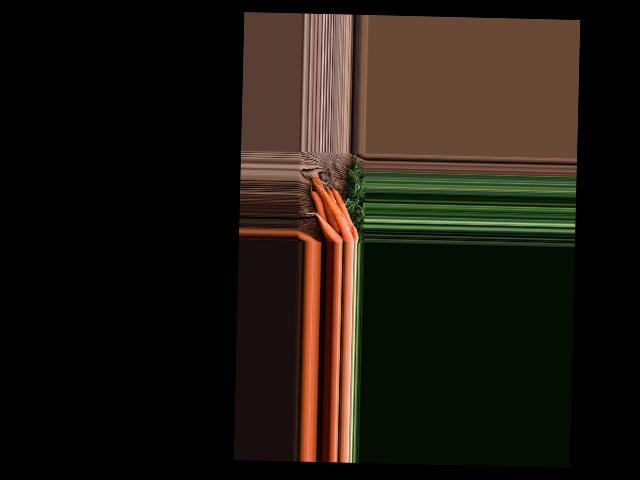carrot: (315, 214, 342, 241)
